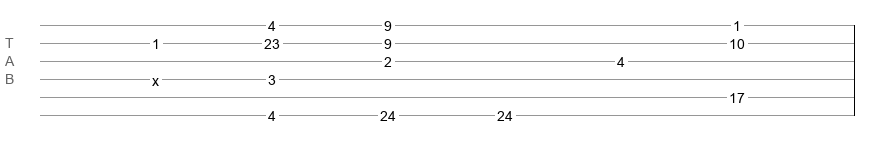1: (152, 36, 160, 46), (733, 18, 741, 28)
10: (729, 36, 745, 46)
17: (729, 90, 745, 100)
2: (384, 54, 392, 64)
23: (264, 36, 280, 46)
24: (380, 108, 396, 118), (497, 108, 513, 118)
3: (268, 72, 276, 82)
4: (268, 108, 276, 118), (268, 18, 276, 28), (617, 54, 625, 64)
9: (384, 36, 392, 46), (384, 18, 392, 28)
x: (152, 73, 159, 81)
